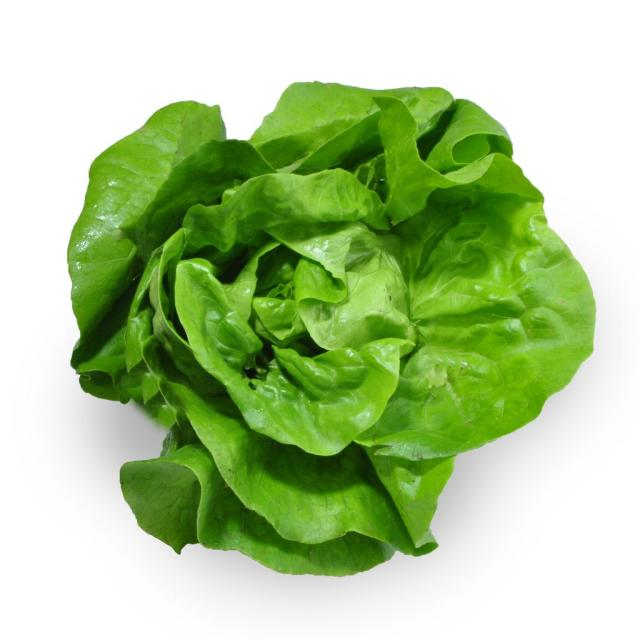lettuce: (58, 69, 612, 587)
